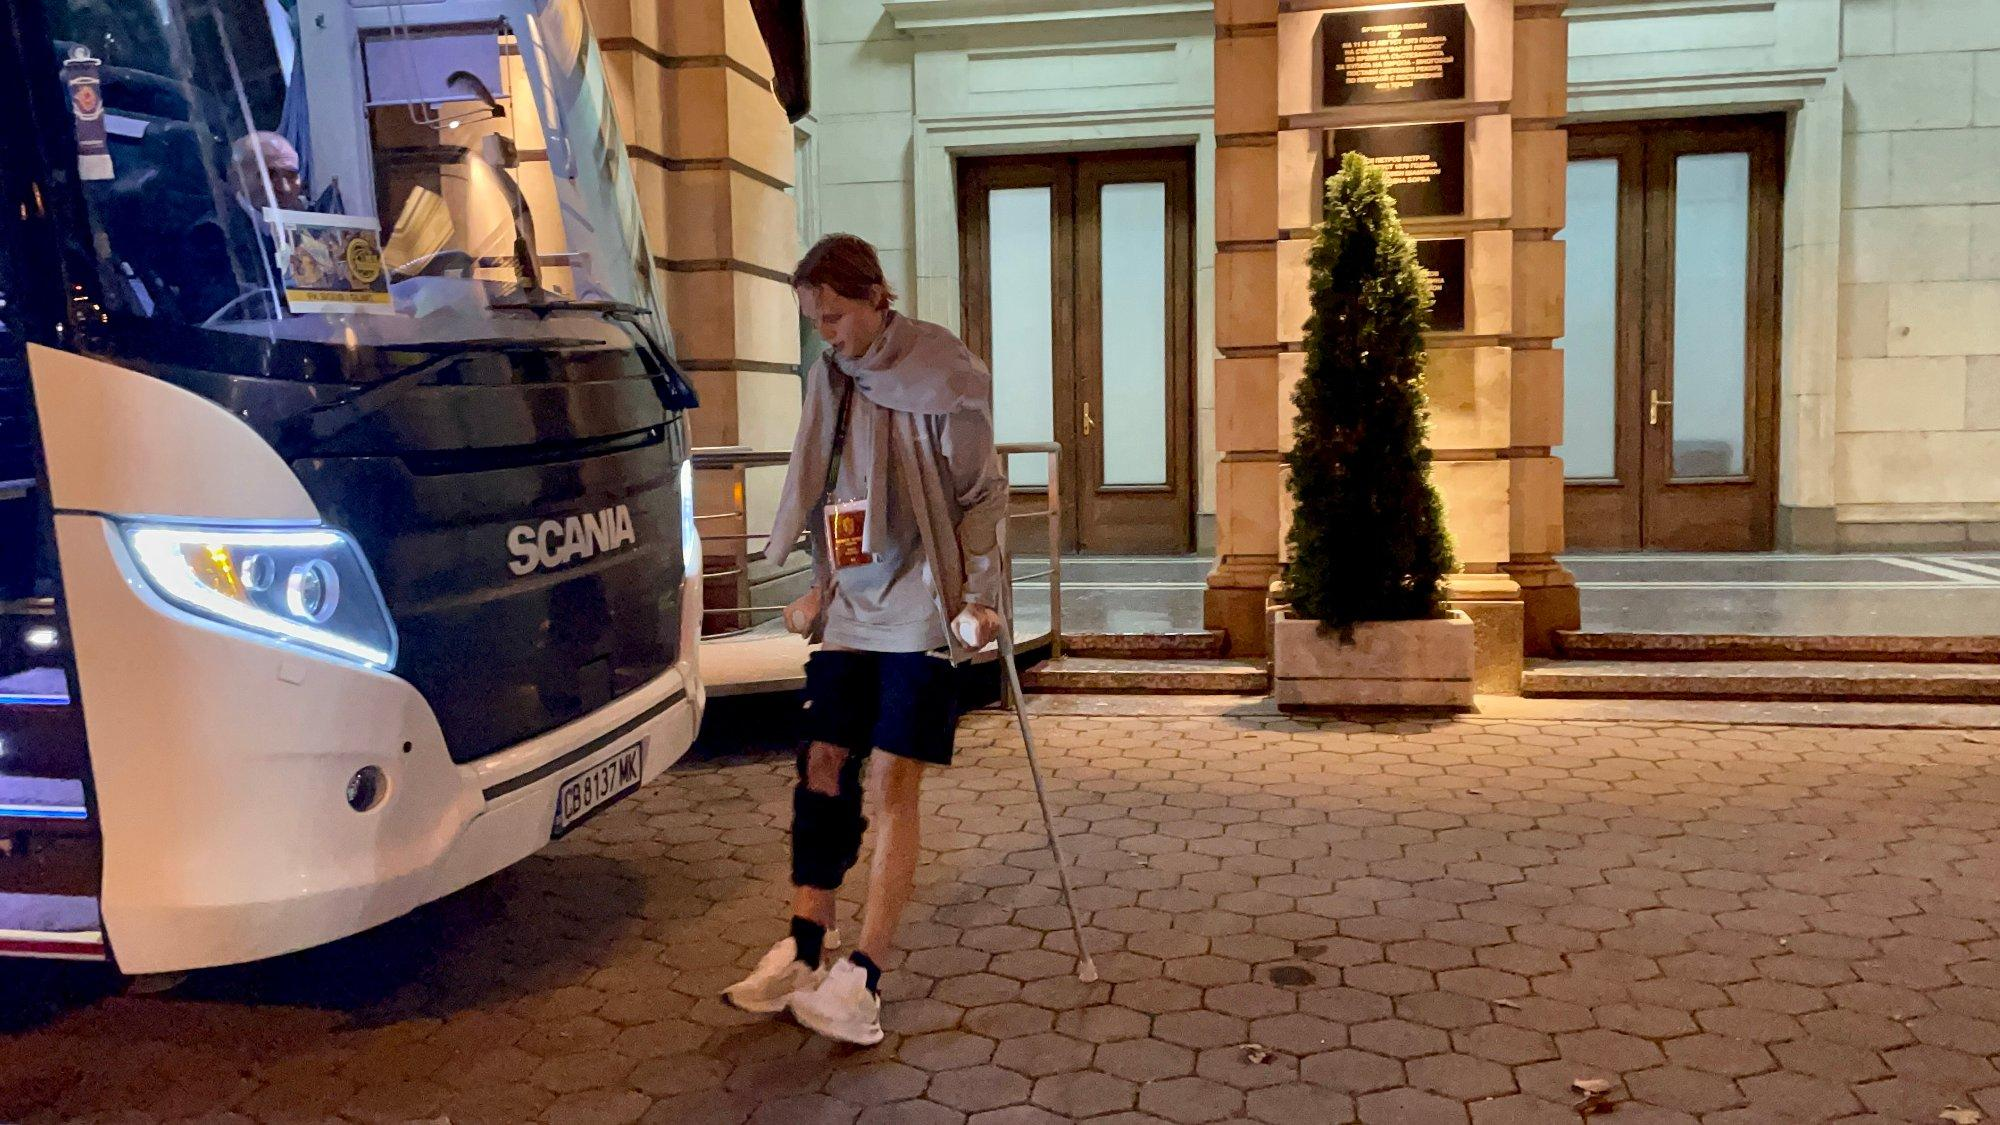crutches: (720, 232, 1100, 1047)
